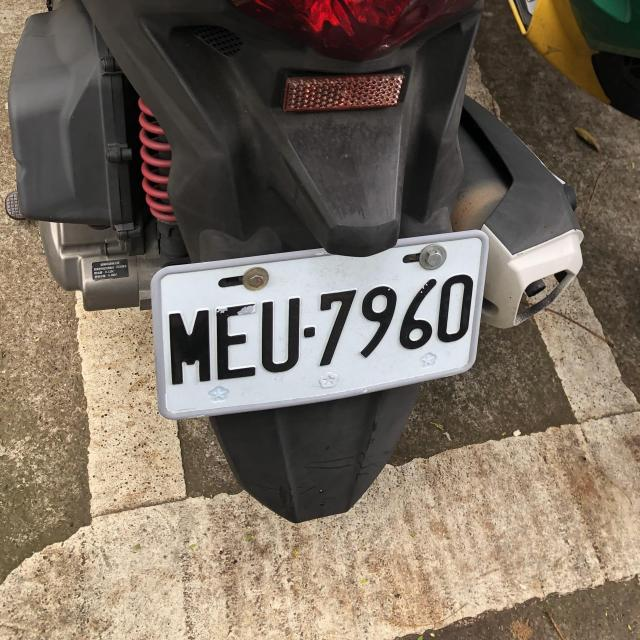W: (150, 237, 497, 418)
